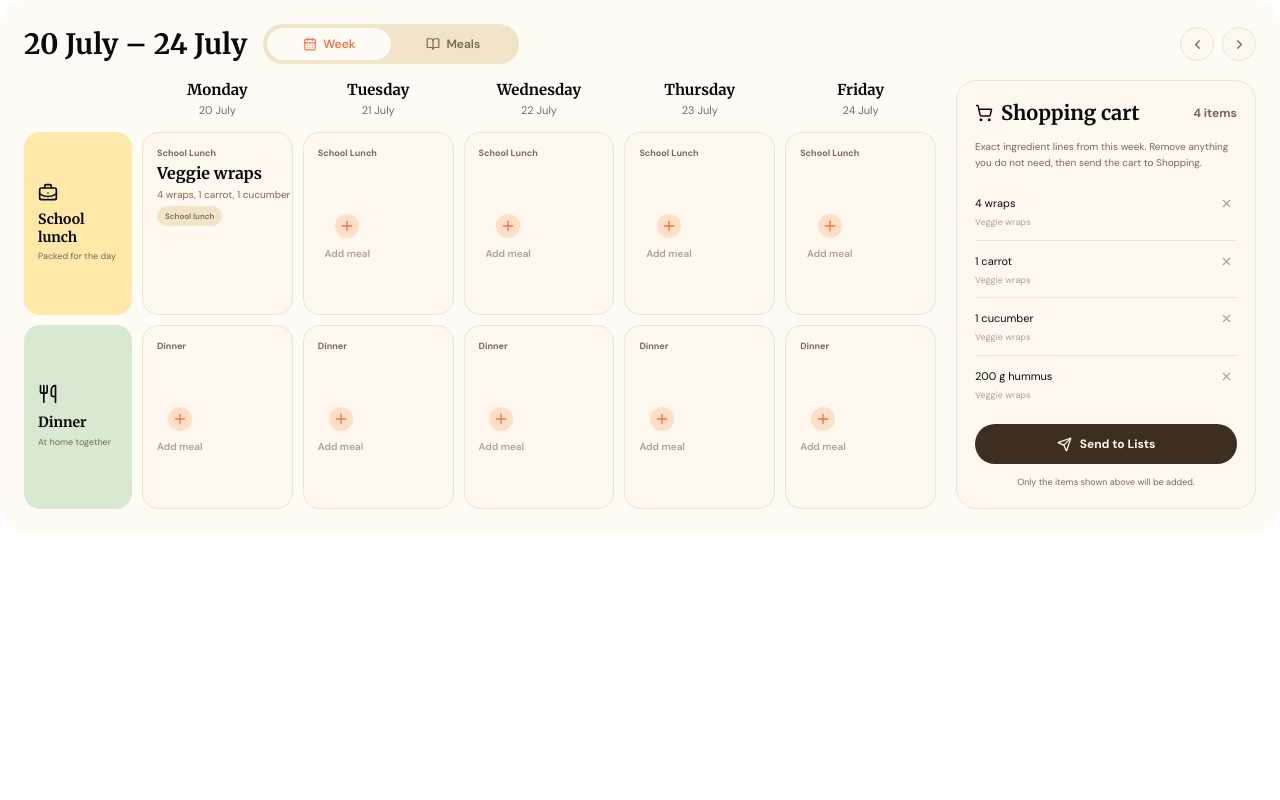
Test: WeekRoute › explains when the shared Shopping list is unavailable
Click the button "Send to Lists".
click(1106, 444)  # box 975,424 -> 1237,464
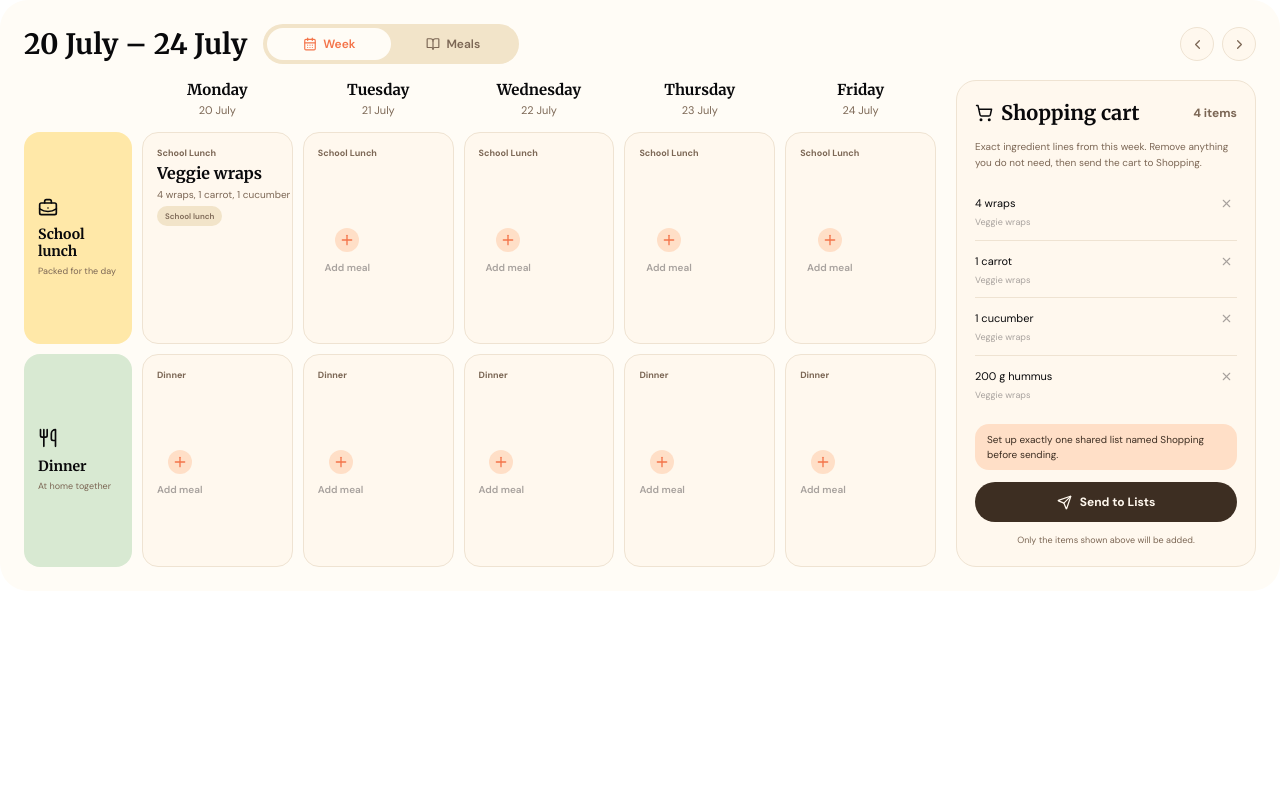
Expected: the message reads "Set up exactly one shared list named Shopping before sending.", 987,433 -> 1204,461
